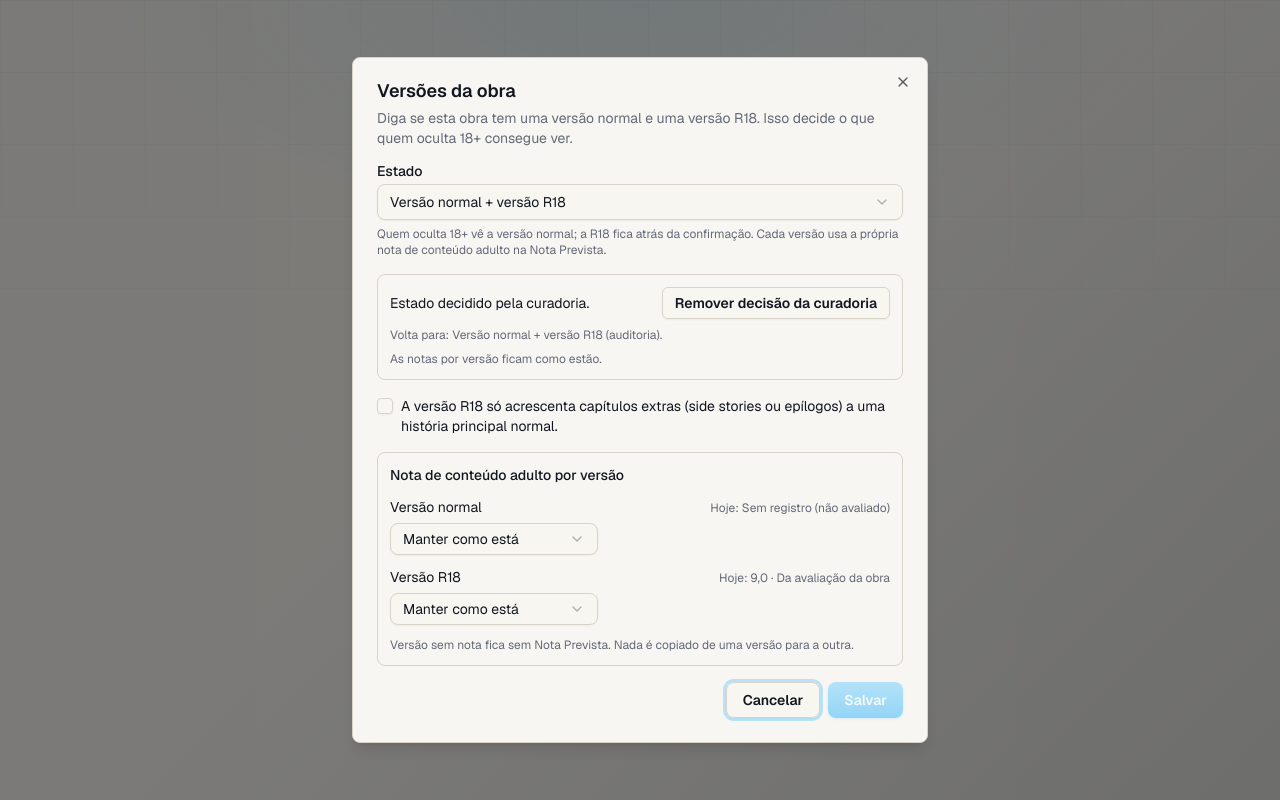
it: diálogo Versões da obra › com mudanças não salvas, remover fica travado (não mistura as duas ações)
Expected: the text "Estado" is shown, [377,162,422,180]
Press Space in the dropdown named "Estado", box [377,184,903,220]
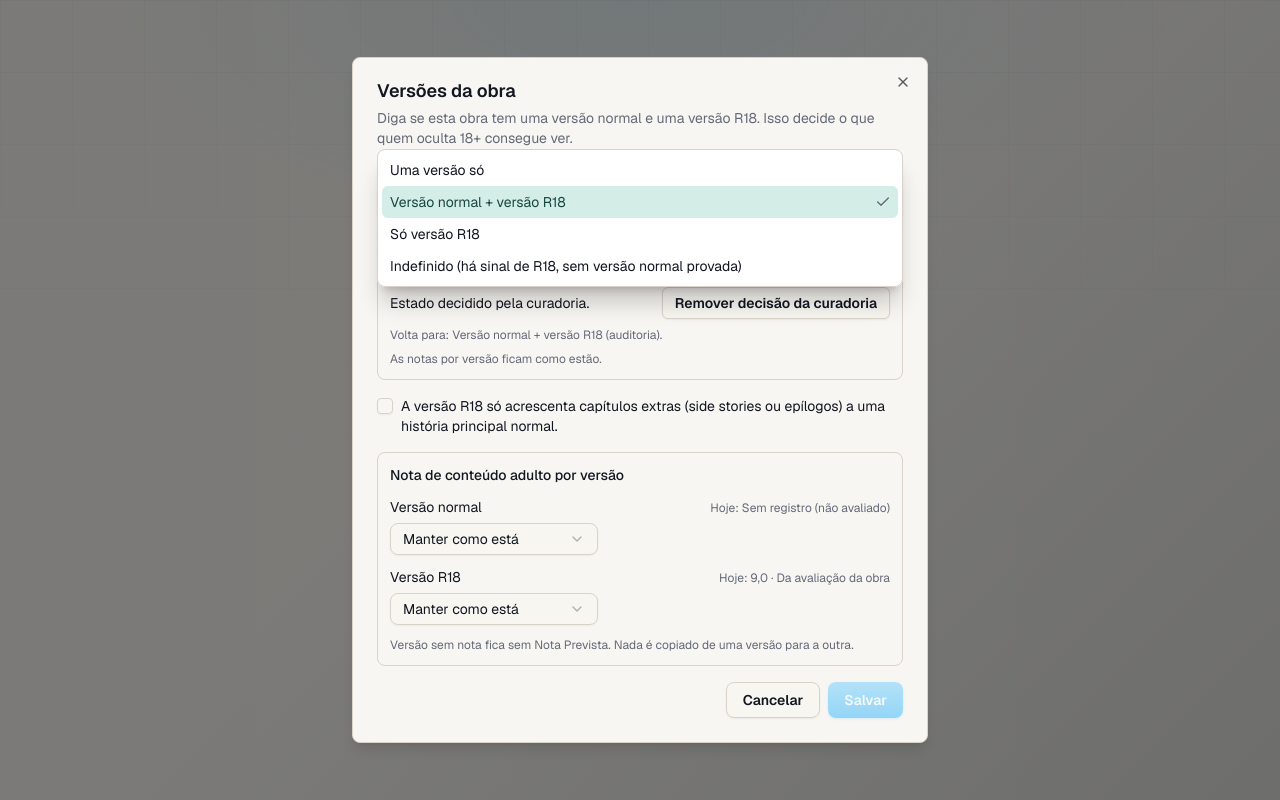
Click the option "Só versão R18" at (435, 234), box [390,225,480,243]
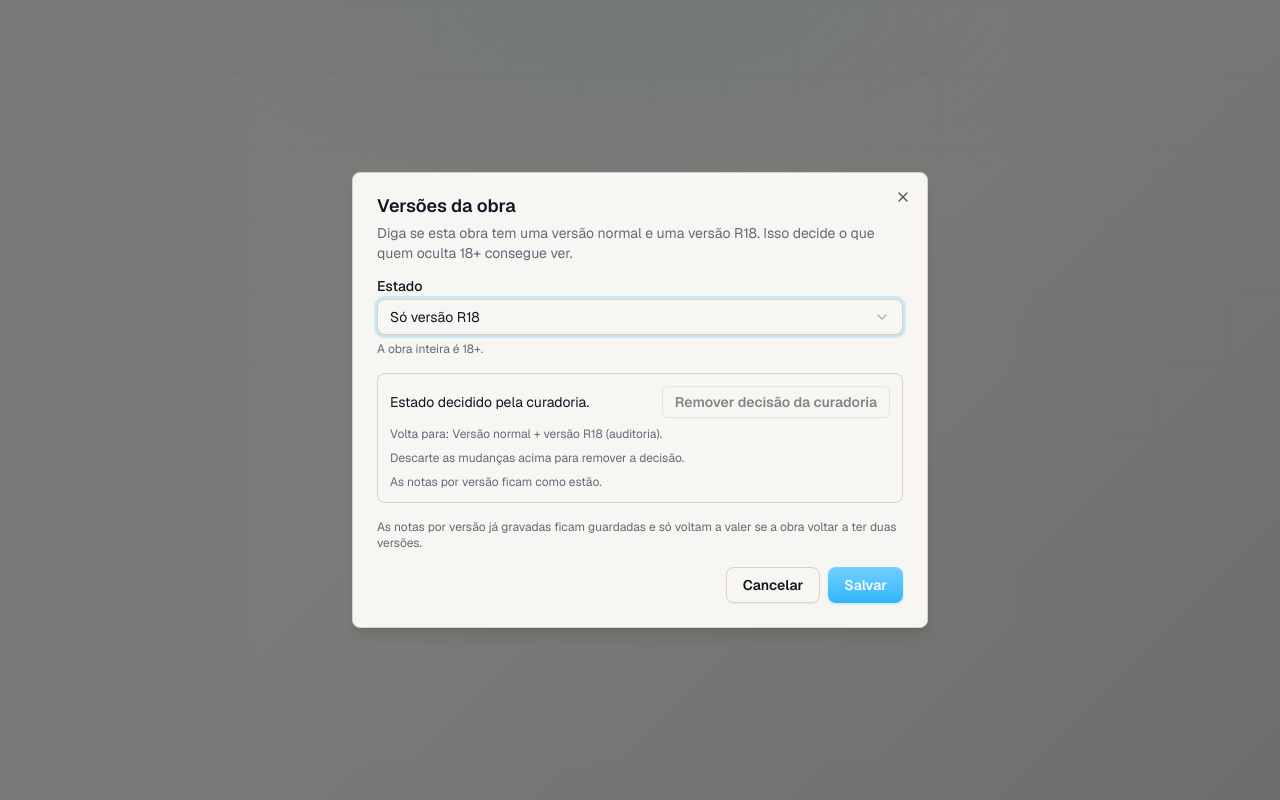
Expected: the button "Remover decisão da curadoria" is disabled, [662,386,890,418]
Expected: the text "Descarte as mudanças acima para remover a decisão." is shown, [390,450,684,466]
